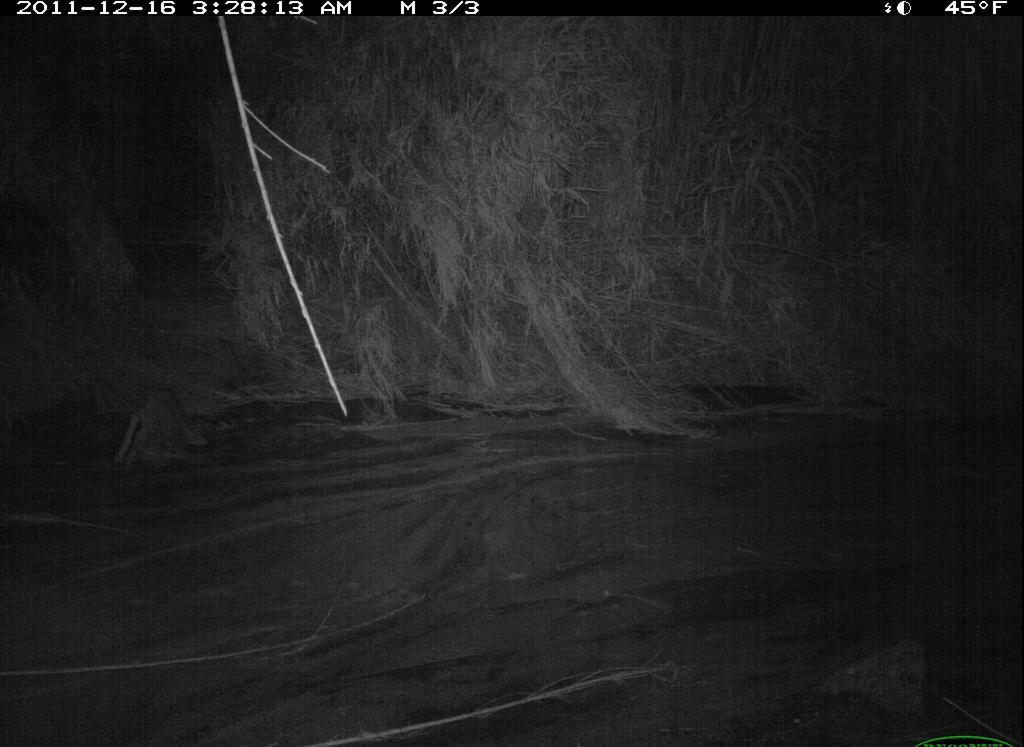coyote: (111, 381, 216, 474)
